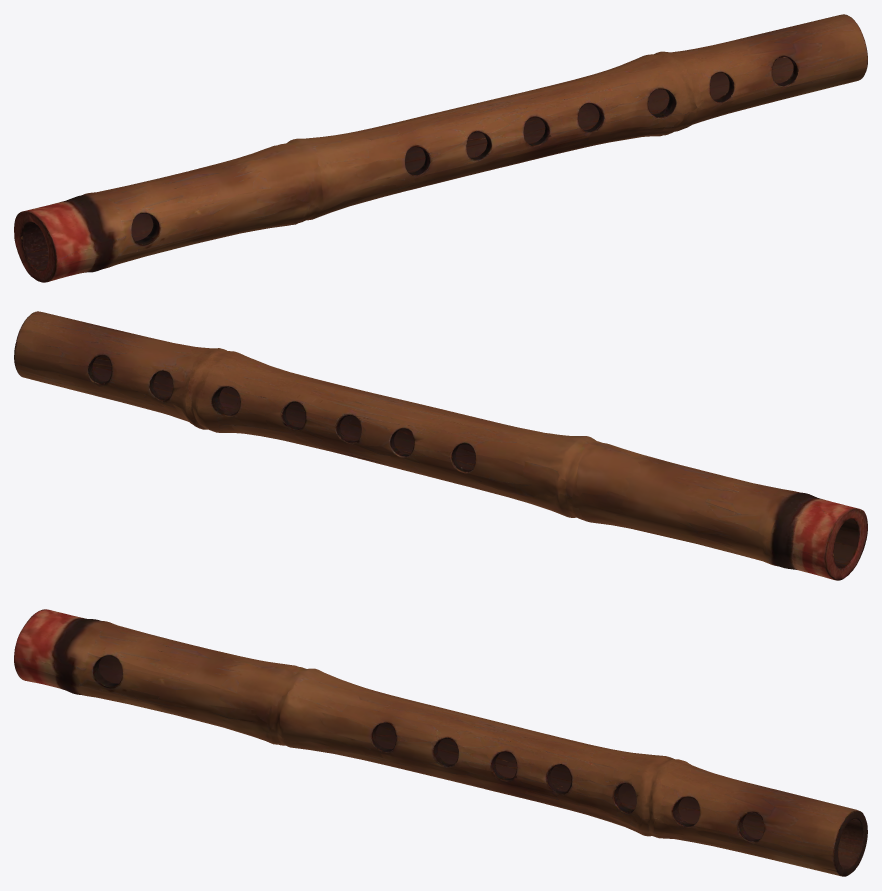
Rendered from venu.glb.
3 renders of one model, top to bottom at view 1: azimuth 30°, elevation 25°; view 2: azimuth 150°, elevation 25°; view 3: azimuth 330°, elevation 25°, orthographic.
Parts seen in each view (by area): view 1: Mesh_0; view 2: Mesh_0; view 3: Mesh_0.
Part boxes in pixels (bbox=[...]): Mesh_0: bbox=[14, 14, 867, 282]; Mesh_0: bbox=[14, 311, 867, 580]; Mesh_0: bbox=[14, 609, 867, 876].
Size of the model in its own units: 1.9 by 0.1679 by 0.1752.
1 material, 1 textured.
